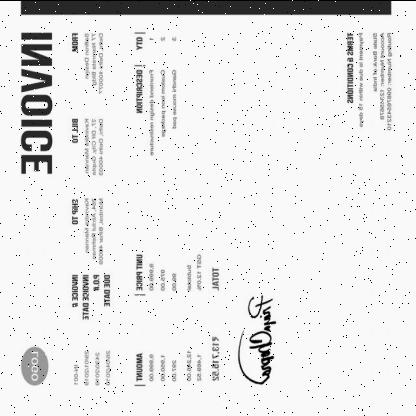Paragraph: (19, 26, 55, 178), (345, 27, 395, 133), (184, 250, 222, 384), (70, 270, 113, 388), (70, 194, 106, 266), (70, 29, 106, 96), (70, 115, 105, 177)
Table: (132, 30, 182, 386)
